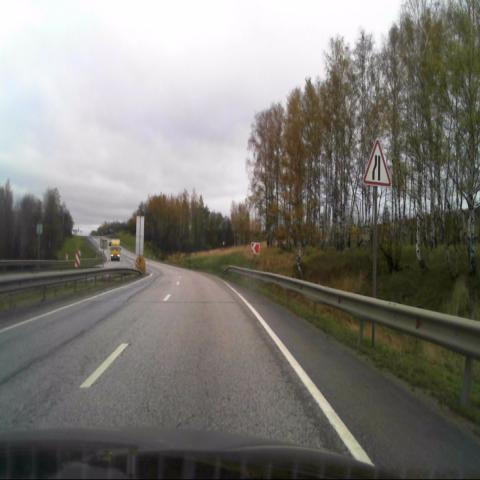1_20_3: (364, 137, 392, 186)
